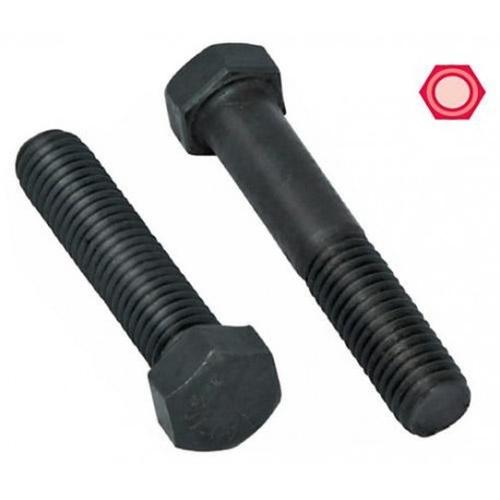Tornillo: (161, 40, 472, 439), (13, 128, 283, 455)
